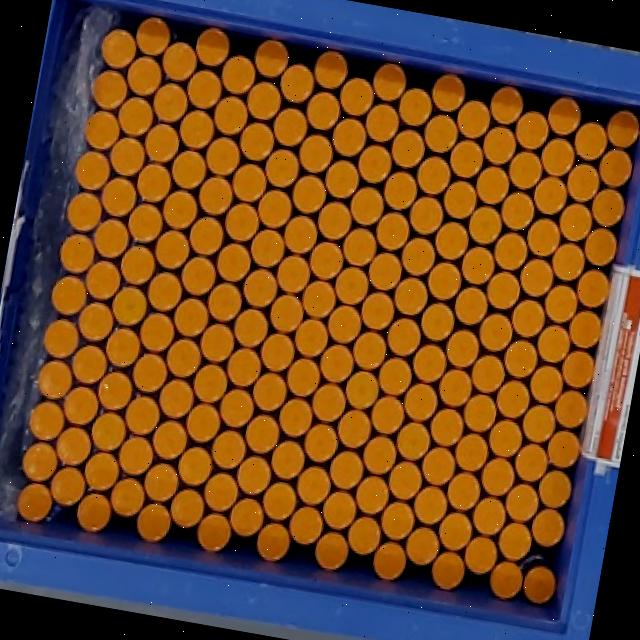vials: (74, 150, 111, 191), (49, 466, 86, 507), (124, 394, 160, 436), (51, 274, 87, 316), (161, 41, 197, 82), (126, 55, 162, 96), (100, 28, 136, 69), (152, 82, 188, 123), (162, 189, 198, 230), (127, 202, 163, 243), (158, 378, 194, 419), (111, 285, 147, 326), (97, 370, 133, 411), (90, 411, 126, 452), (85, 260, 121, 301), (77, 301, 113, 342), (71, 344, 107, 385), (28, 400, 64, 441), (22, 441, 58, 482), (92, 69, 127, 111), (85, 109, 120, 151), (135, 503, 172, 542), (186, 69, 222, 109), (135, 16, 171, 56), (117, 96, 153, 136), (101, 177, 137, 217), (66, 192, 102, 232), (173, 297, 209, 337), (143, 462, 179, 502), (151, 420, 187, 460), (139, 312, 175, 352), (131, 353, 167, 393), (117, 436, 153, 476), (109, 477, 145, 517), (76, 492, 112, 532), (43, 318, 79, 358), (55, 426, 91, 466), (221, 54, 256, 95), (246, 80, 281, 121), (179, 109, 214, 150), (497, 521, 532, 562), (171, 149, 206, 190), (380, 500, 415, 541), (147, 271, 182, 312), (211, 429, 246, 470), (203, 471, 238, 512), (185, 402, 220, 443), (169, 488, 204, 529), (105, 327, 140, 368), (84, 451, 119, 492), (59, 233, 94, 274), (37, 359, 72, 400), (62, 386, 99, 424), (231, 163, 267, 202), (93, 219, 129, 258), (180, 256, 216, 295), (16, 482, 52, 521), (514, 110, 549, 150), (434, 221, 469, 261), (357, 144, 392, 184), (279, 63, 314, 103), (254, 39, 289, 79), (324, 159, 359, 199), (342, 227, 377, 267), (195, 27, 230, 67), (239, 122, 274, 162), (264, 148, 299, 188), (257, 189, 292, 229), (205, 136, 240, 176), (393, 276, 428, 316), (386, 317, 421, 357), (530, 507, 565, 547), (480, 457, 515, 497), (463, 535, 498, 575), (446, 471, 481, 511), (413, 485, 448, 525), (144, 123, 179, 163), (198, 176, 233, 216), (136, 163, 171, 203), (224, 202, 259, 242), (405, 526, 440, 566), (189, 216, 224, 256), (243, 268, 278, 308), (154, 229, 189, 269), (207, 282, 242, 322), (233, 308, 268, 348), (311, 383, 346, 423), (322, 490, 357, 530), (199, 322, 234, 362), (226, 347, 261, 387), (296, 465, 331, 505), (288, 505, 323, 545), (236, 455, 271, 495), (229, 497, 264, 537), (177, 446, 212, 486), (196, 512, 231, 552), (166, 338, 201, 378), (332, 117, 366, 158), (339, 77, 374, 116), (273, 108, 308, 147), (478, 313, 513, 352), (317, 201, 352, 240), (470, 354, 505, 393), (309, 241, 344, 280), (504, 483, 539, 522), (110, 137, 145, 176), (216, 243, 251, 282), (120, 246, 155, 285), (573, 121, 607, 161), (598, 148, 632, 188), (591, 187, 625, 227), (566, 163, 600, 203), (533, 175, 567, 215), (558, 202, 592, 242), (489, 85, 523, 125), (456, 99, 490, 139), (500, 191, 534, 231), (449, 139, 483, 179), (424, 113, 458, 153), (398, 87, 432, 127), (372, 62, 406, 102), (365, 103, 399, 143), (390, 128, 424, 168), (417, 155, 451, 195), (511, 298, 545, 338), (486, 270, 520, 310), (383, 170, 417, 210), (306, 91, 340, 131), (299, 133, 333, 173), (554, 389, 588, 429), (350, 186, 384, 226), (292, 174, 326, 214), (546, 429, 580, 469), (538, 469, 572, 509), (514, 442, 548, 482), (454, 432, 488, 472), (429, 407, 463, 447), (421, 446, 455, 486), (250, 228, 284, 268), (352, 330, 386, 370), (396, 421, 430, 461), (388, 460, 422, 500), (363, 435, 397, 475), (347, 516, 381, 556), (345, 370, 379, 410), (319, 343, 353, 383), (269, 293, 303, 333), (286, 357, 320, 397), (329, 449, 363, 489), (314, 531, 348, 571), (252, 372, 286, 412), (304, 423, 338, 463), (262, 481, 296, 521), (271, 440, 305, 480), (256, 522, 290, 562), (245, 414, 279, 454), (220, 388, 254, 428), (193, 363, 227, 403), (488, 561, 523, 599), (508, 151, 542, 190), (431, 73, 465, 112), (468, 206, 502, 245), (494, 231, 528, 270), (551, 242, 585, 281), (519, 258, 553, 297), (409, 196, 443, 235), (529, 365, 563, 404), (503, 340, 537, 379), (427, 262, 461, 301), (283, 215, 317, 254), (445, 329, 479, 368), (496, 380, 530, 419), (522, 404, 556, 443), (463, 393, 497, 432), (438, 368, 472, 407), (412, 344, 446, 383), (335, 266, 369, 305), (522, 565, 556, 604), (438, 512, 472, 551), (431, 551, 465, 590), (276, 254, 310, 293), (327, 305, 361, 344), (404, 383, 438, 422), (294, 318, 328, 357), (260, 333, 294, 372), (337, 409, 371, 448), (584, 227, 617, 267), (527, 217, 560, 257), (576, 268, 609, 308), (568, 309, 601, 349), (561, 349, 594, 389), (314, 50, 347, 90), (454, 286, 487, 326), (214, 95, 247, 135), (371, 395, 404, 435), (355, 475, 388, 515), (279, 397, 312, 437), (547, 97, 581, 135), (461, 247, 495, 285), (368, 253, 402, 291), (488, 419, 522, 457), (472, 497, 506, 535), (302, 281, 336, 319), (372, 542, 406, 580), (606, 109, 639, 148), (541, 137, 574, 176), (483, 126, 516, 165), (443, 180, 476, 219), (544, 284, 577, 323), (401, 237, 434, 276), (376, 212, 409, 251), (421, 302, 454, 341), (361, 291, 394, 330), (378, 357, 411, 396), (476, 166, 509, 204), (537, 325, 570, 363)
